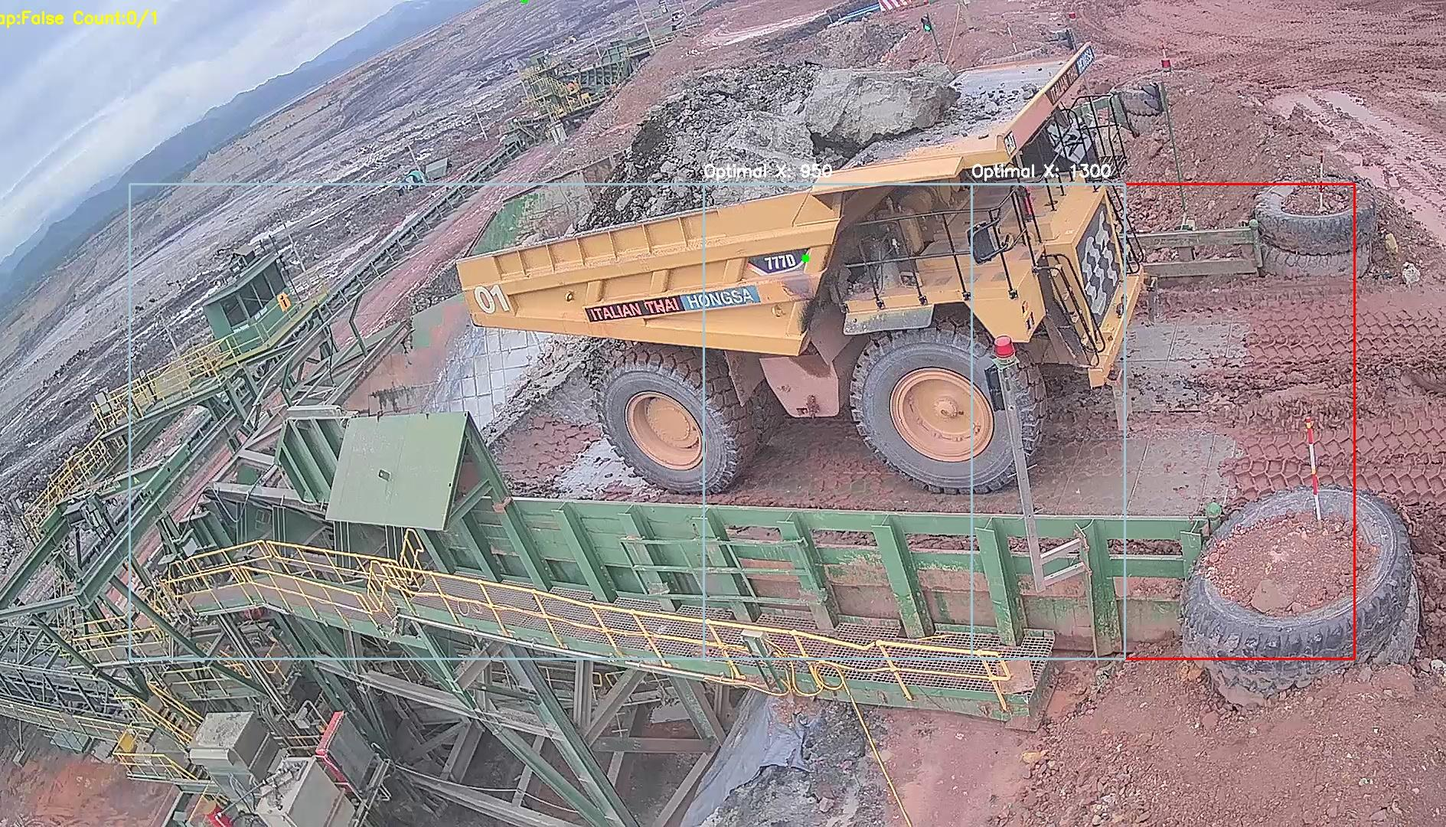company: (575, 272, 772, 329)
full_load: (584, 62, 870, 216)
mining_truck: (429, 30, 1170, 491)
tail_number: (463, 279, 522, 324)
truck_size: (745, 243, 813, 277)
